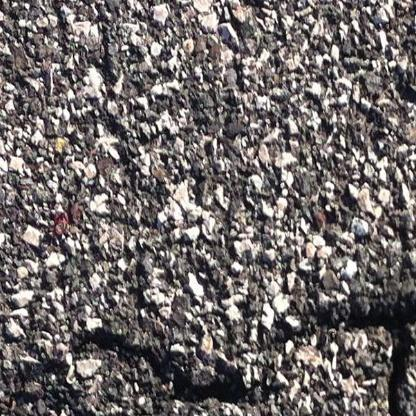Cracks: (75, 326, 252, 410), (316, 292, 416, 416), (43, 357, 122, 416)
